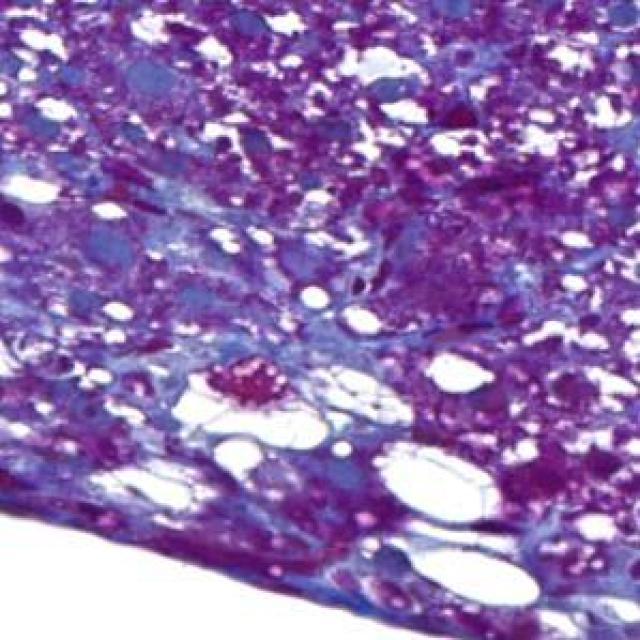ballooning: (176, 351, 330, 454), (362, 434, 503, 528)
